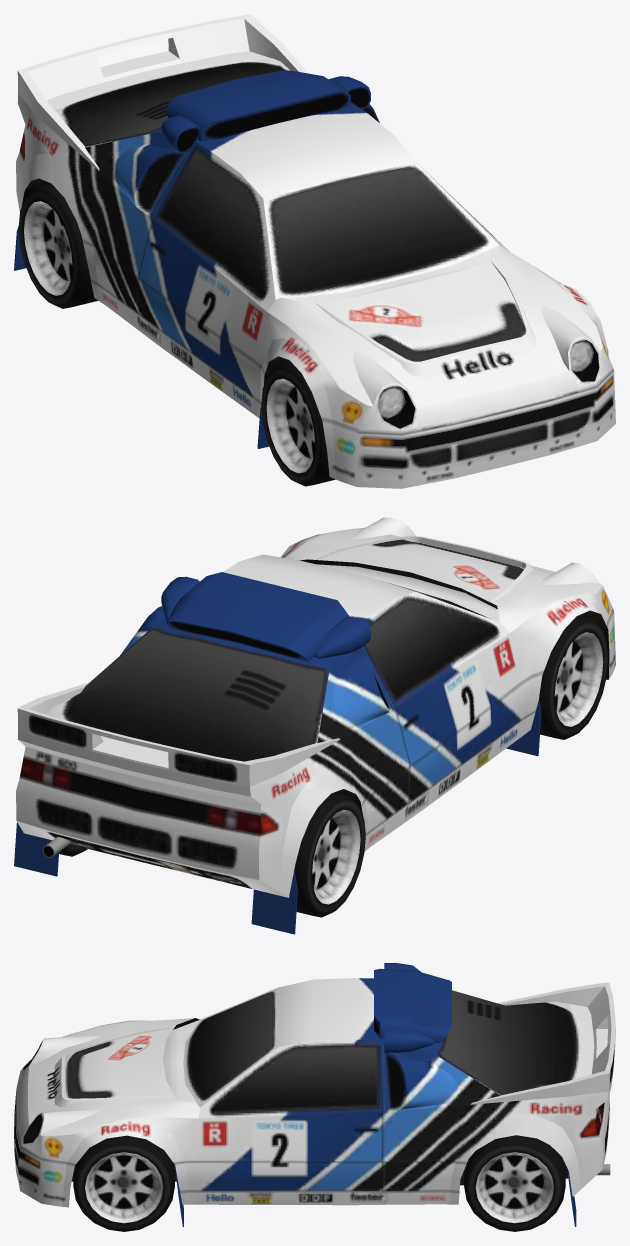
The model's file is ford_rs200.glb.
The picture shows the model from 3 angles, top to bottom: view 1: azimuth 30°, elevation 25°; view 2: azimuth 150°, elevation 25°; view 3: azimuth 270°, elevation 25°; orthographic projection. The views are drawn at different scales.
Parts seen in each view (by area): view 1: Ford RS200, L_front_wheel_geo #370591.002, L_front_wheel_geo #370591.003; view 2: Ford RS200, L_front_wheel_geo #370591.002, L_front_wheel_geo #370591.003; view 3: Ford RS200, L_front_wheel_geo #370591.001, L_front_wheel_geo #370591.
Boxes of the visible parts, x1=… form: Ford RS200: x1=14, y1=14, x2=615, y2=488; L_front_wheel_geo #370591.002: x1=18, y1=183, x2=98, y2=308; L_front_wheel_geo #370591.003: x1=261, y1=361, x2=335, y2=486; Ford RS200: x1=14, y1=517, x2=615, y2=934; L_front_wheel_geo #370591.002: x1=294, y1=792, x2=365, y2=917; L_front_wheel_geo #370591.003: x1=539, y1=615, x2=608, y2=739; Ford RS200: x1=14, y1=963, x2=615, y2=1226; L_front_wheel_geo #370591.001: x1=464, y1=1135, x2=565, y2=1231; L_front_wheel_geo #370591: x1=73, y1=1135, x2=174, y2=1231.
Bounding box in the file's own units: 1.8 × 1.37 × 4.04.
Materials: 5 (5 with a texture image).
